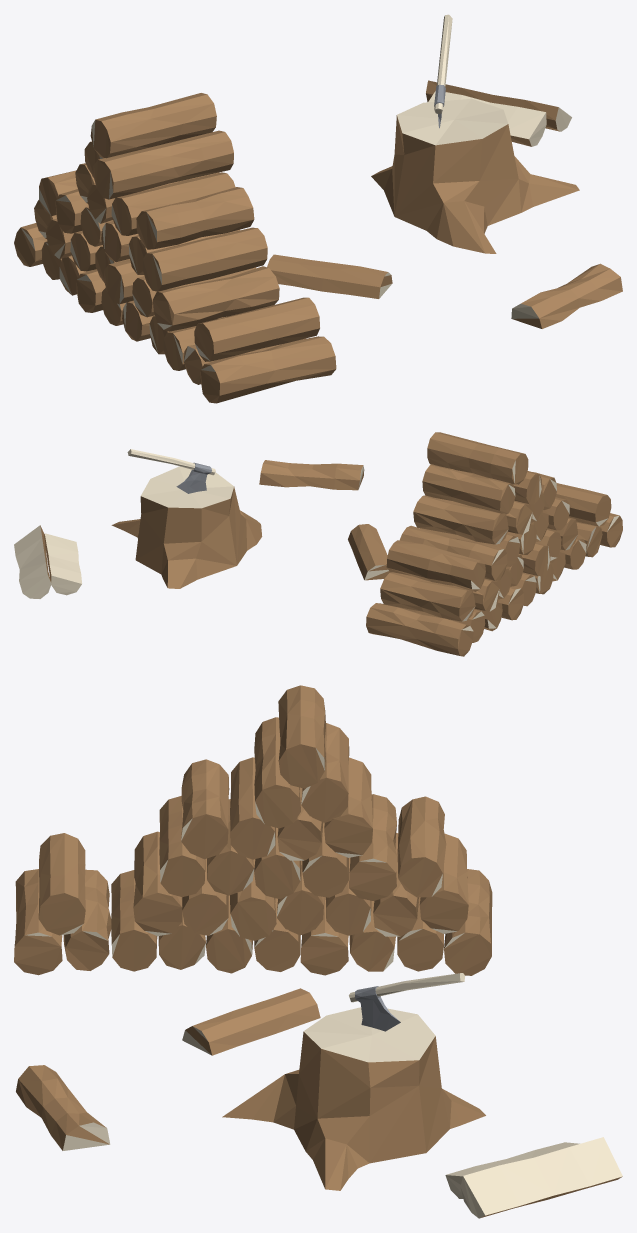
The model's file is woodpile.fbx.
3 renders of one model, top to bottom at view 1: azimuth 30°, elevation 25°; view 2: azimuth 150°, elevation 25°; view 3: azimuth 270°, elevation 25°, orthographic. The views are drawn at different scales.
Parts seen in each view (by area): view 1: Kruh.001, Válec_4.009, Válec_0.005, Válec_4.007, Válec_2.003, Válec_6.003, Válec_8.001, Válec_3.003, Válec_4.000, Válec_4.001, Válec_2.001, Válec_4.005 (+18 smaller); view 2: Kruh.001, Válec_9.001, Válec_4.007, Válec_7.001, Válec_0.003, Válec_0.001, Válec_3.001, Válec_4.001, Válec_6.001, Válec_4.004, Válec_4.005, Válec_4.000 (+22 smaller); view 3: Kruh.001, Válec_4.004, Válec_4.000, Válec_8.001, Válec_4.007, Válec_7.001, Válec_4.001, Válec_3.003, Válec_4.009, Válec_6.001, Válec_9.001, Válec_6.003 (+26 smaller).
Boxes of the visible parts, x1,y1,x2,y2 form: Kruh.001: (371, 98, 579, 253); Válec_4.009: (93, 130, 233, 199); Válec_0.005: (200, 336, 336, 403); Válec_4.007: (90, 93, 216, 158); Válec_2.003: (143, 227, 267, 291); Válec_6.003: (152, 266, 279, 331); Válec_8.001: (194, 297, 319, 361); Válec_3.003: (136, 187, 254, 249); Válec_4.000: (267, 254, 392, 298); Válec_4.001: (511, 263, 622, 328); Válec_2.001: (111, 172, 235, 235); Válec_4.005: (428, 91, 546, 146); Kruh.001: (111, 466, 262, 588); Válec_9.001: (366, 603, 473, 656); Válec_4.007: (427, 432, 528, 484); Válec_7.001: (386, 540, 485, 591); Válec_0.003: (380, 572, 475, 621); Válec_0.001: (413, 495, 508, 544); Válec_3.001: (422, 465, 515, 514); Válec_4.001: (259, 460, 364, 490); Válec_6.001: (399, 525, 507, 580); Válec_4.004: (14, 525, 51, 598); Válec_4.005: (44, 533, 82, 595); Válec_4.000: (348, 524, 391, 580); Kruh.001: (222, 1007, 485, 1190); Válec_4.004: (460, 1137, 622, 1218); Válec_4.000: (182, 988, 320, 1055); Válec_8.001: (38, 833, 85, 935); Válec_4.007: (278, 685, 325, 788); Válec_7.001: (397, 796, 446, 897); Válec_4.001: (16, 1065, 110, 1150); Válec_3.003: (181, 759, 229, 859); Válec_4.009: (254, 717, 300, 828); Válec_6.001: (349, 794, 397, 900); Válec_9.001: (444, 869, 492, 975); Válec_6.003: (133, 831, 182, 936).
Bounding box in the file's own units: 237 × 80.86 × 193.
